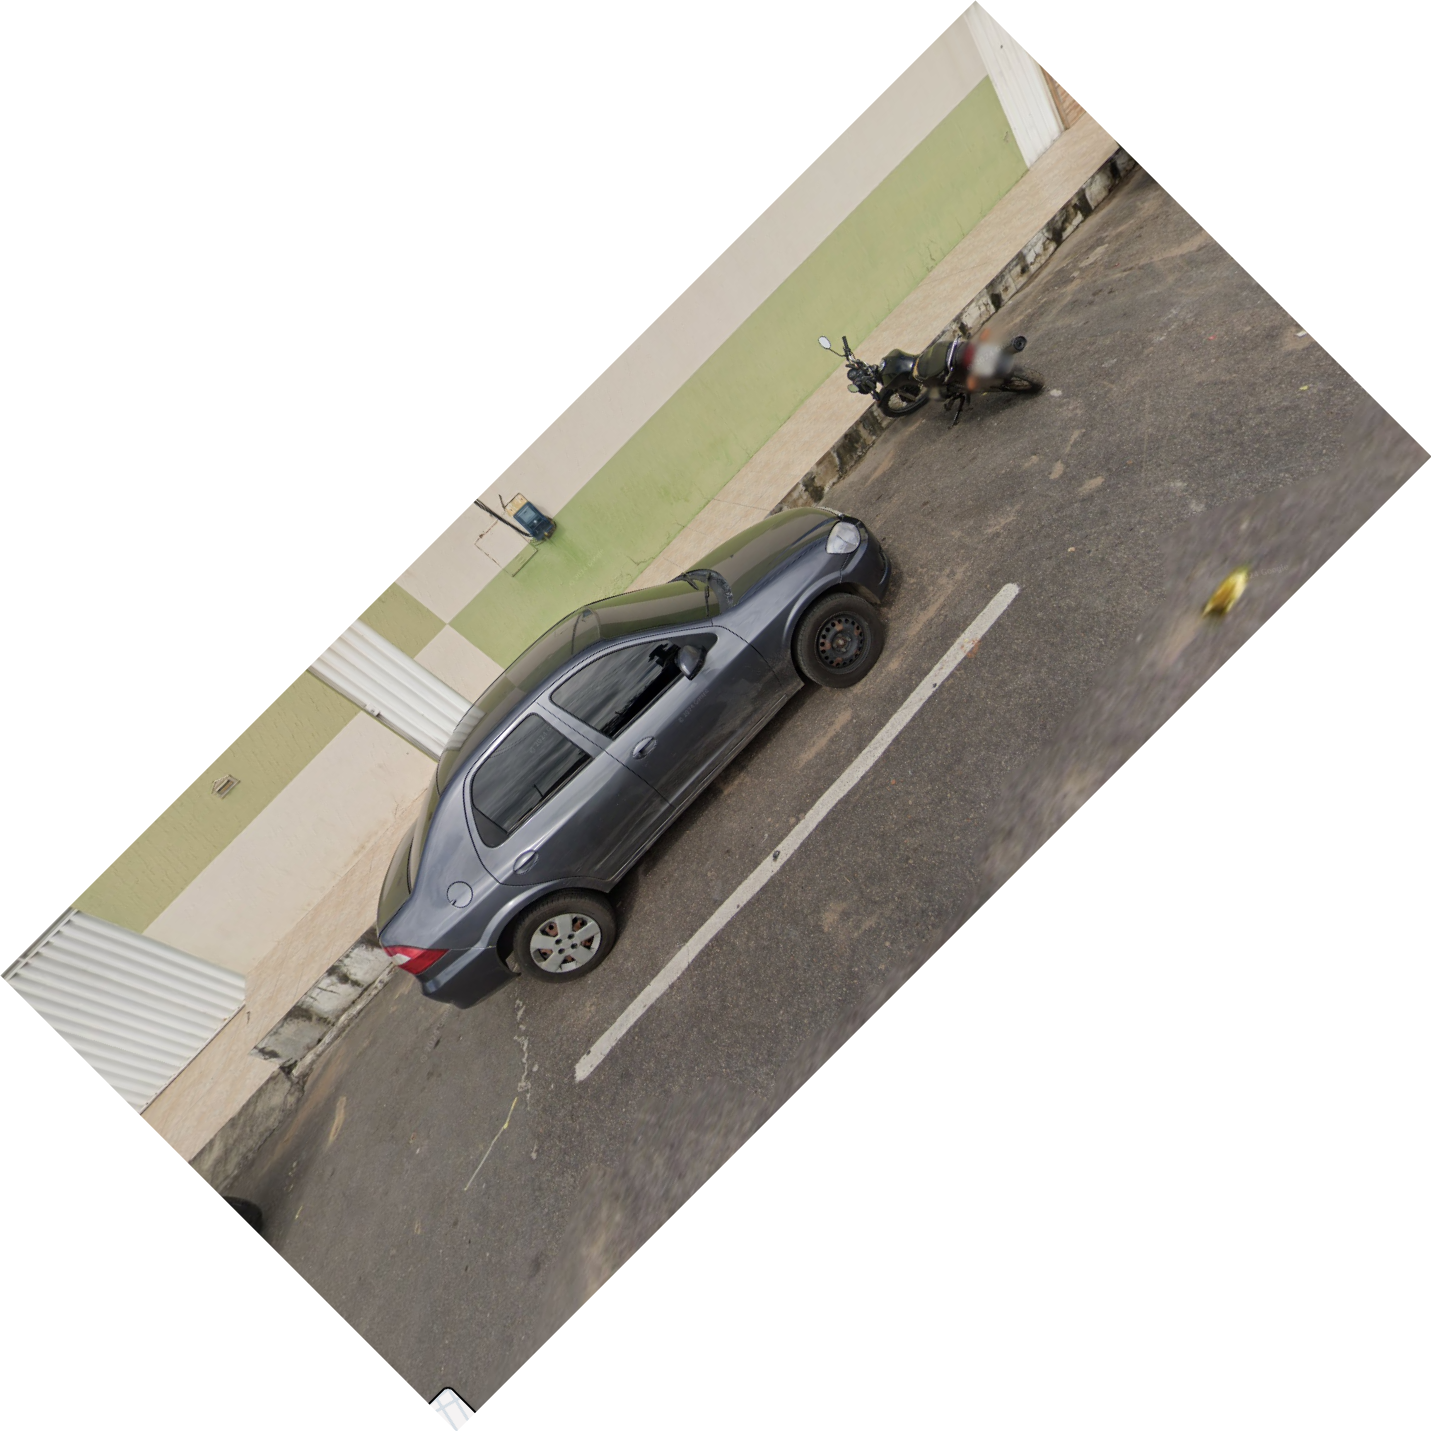car: (366, 501, 906, 1023)
